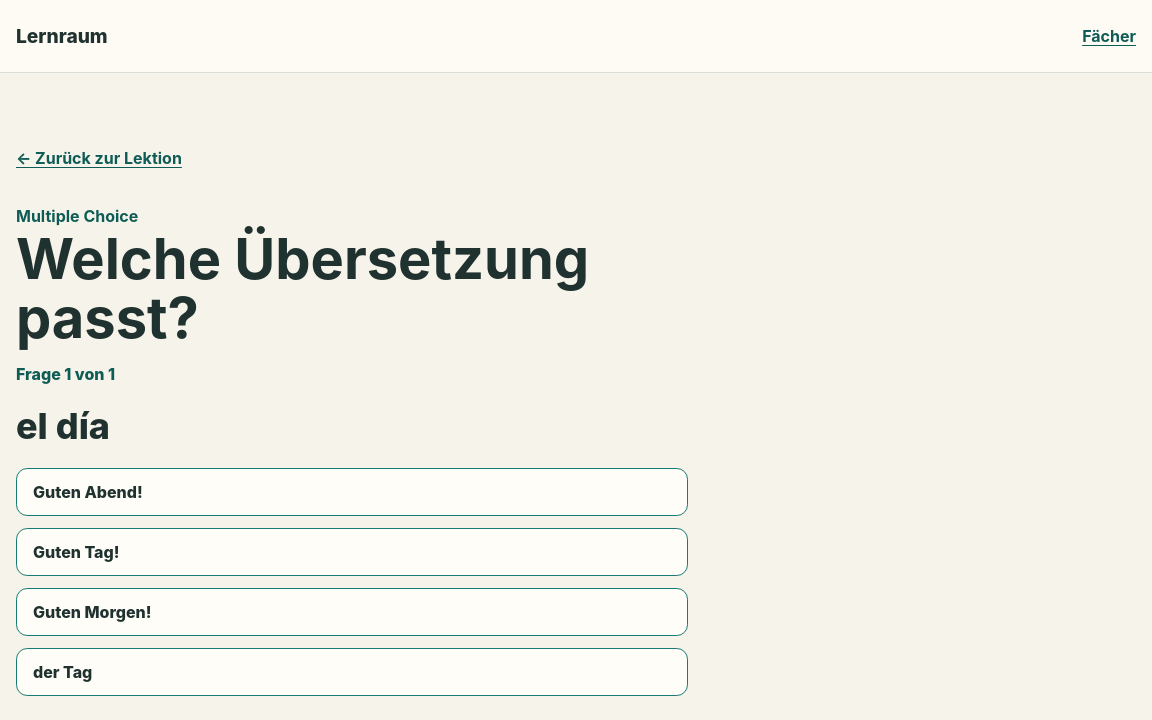
Test: MultipleChoiceMode › shows incorrect textual feedback with a visible cross and locks every option
This screenshot has width=1152, height=720.
Click the button "Guten Abend!" at [88, 492], box [16,468,688,516]
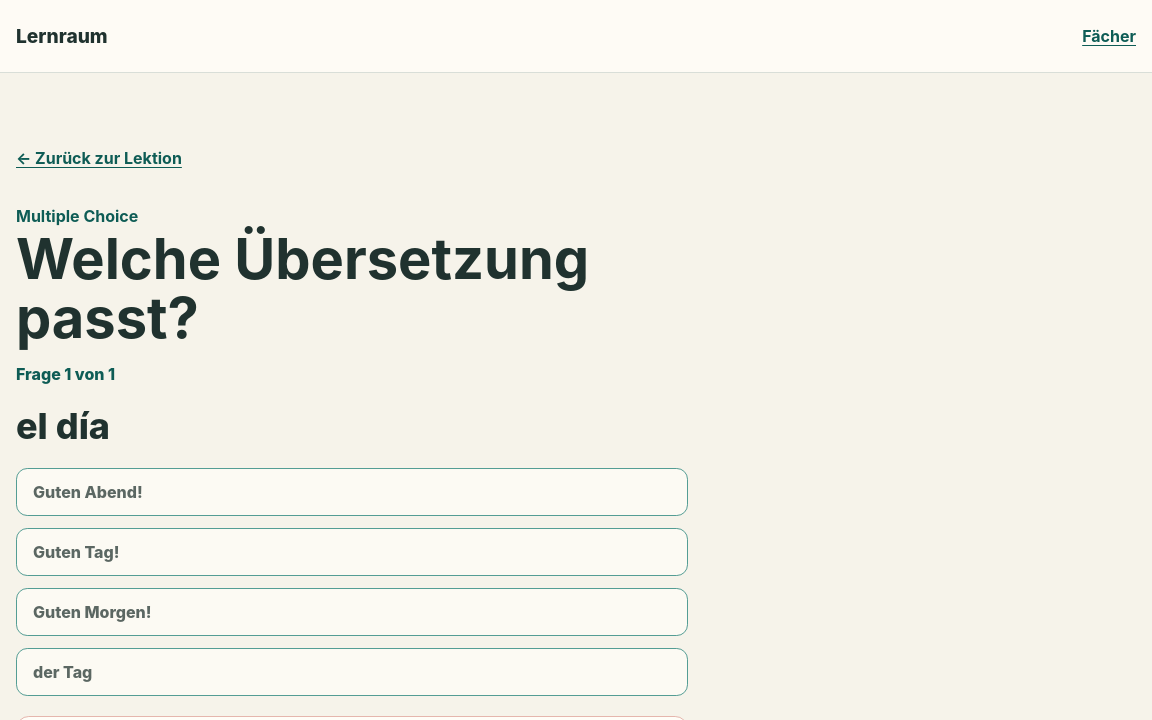
expect the button "Guten Abend!" is disabled: met, box [16,468,688,516]
expect the button "Guten Tag!" is disabled: met, box [16,528,688,576]
expect the button "Guten Morgen!" is disabled: met, box [16,588,688,636]
